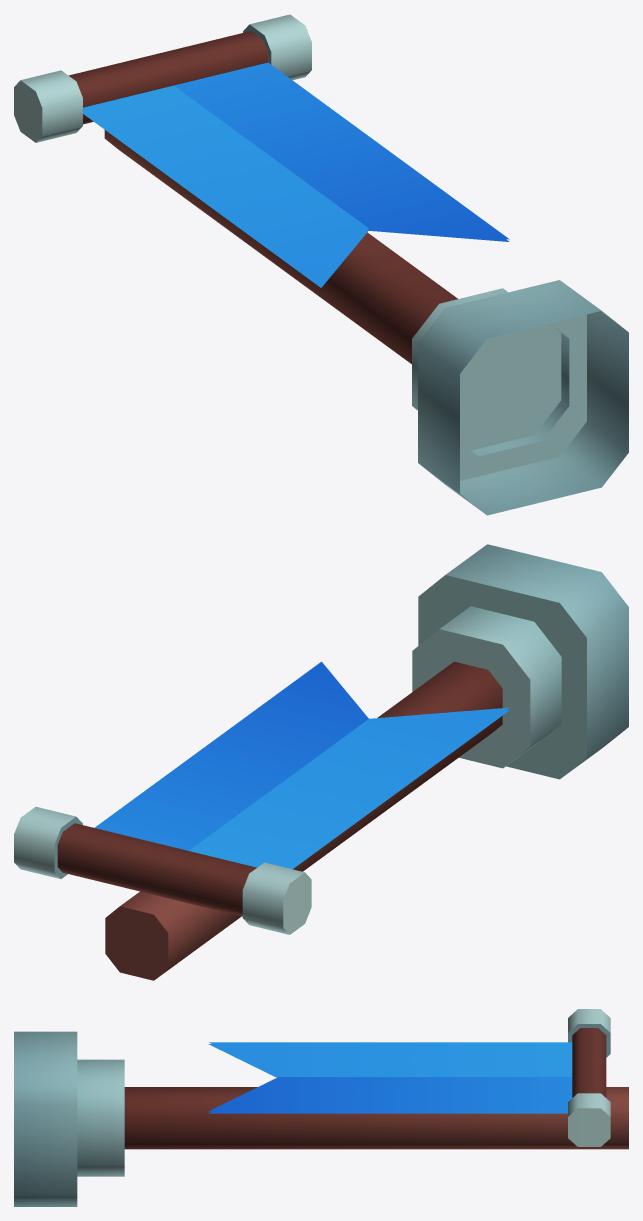
The model's file is Flag Blue.FBX.
The picture shows the model from 3 angles, top to bottom: view 1: azimuth 30°, elevation 25°; view 2: azimuth 150°, elevation 25°; view 3: azimuth 270°, elevation 25°; orthographic projection. The views are drawn at different scales.
Parts seen in each view (by area): view 1: Flag Blue; view 2: Flag Blue; view 3: Flag Blue.
Part boxes in pixels (x1=…): Flag Blue: x1=14, y1=14, x2=628, y2=515; Flag Blue: x1=14, y1=544, x2=628, y2=980; Flag Blue: x1=14, y1=1009, x2=628, y2=1206.
Bounding box in the file's own units: 81.28 × 50.94 × 213.
1 material, 1 textured.
